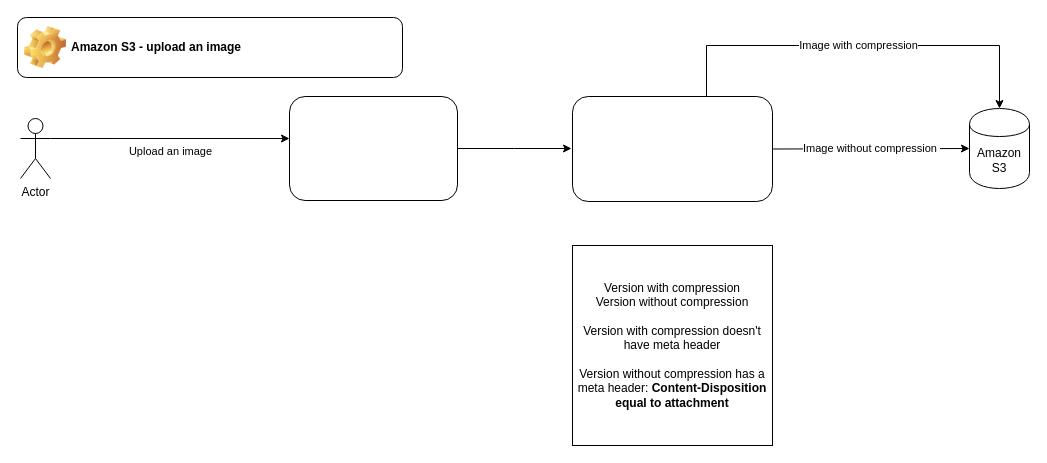
This 1047x463 diagram has some shape labels left out. Each missing label, with the box of its shape:
Backend service creates a two version: (572, 96, 772, 202)
Web System: (288, 96, 458, 200)
